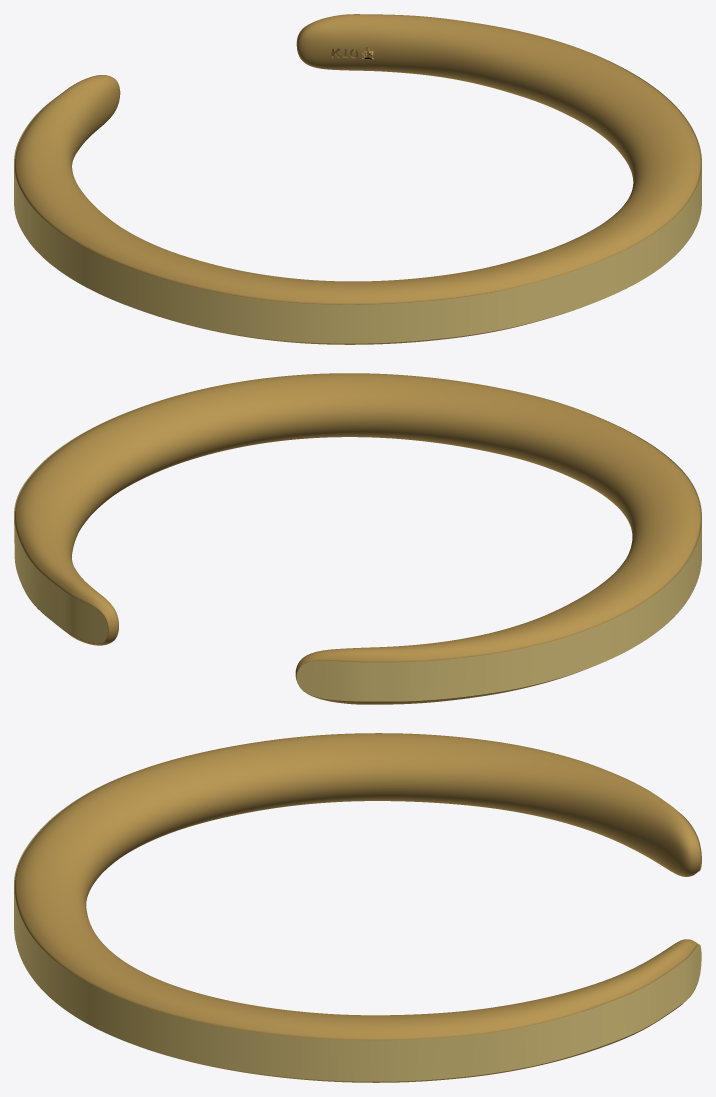
The model's file is ring-gold10.glb.
The picture shows the model from 3 angles, top to bottom: view 1: azimuth 30°, elevation 25°; view 2: azimuth 150°, elevation 25°; view 3: azimuth 270°, elevation 25°; orthographic projection. The views are drawn at different scales.
Visible parts, largest first — view 1: ring-body.004, ring-body.005; view 2: ring-body.004, ring-body.005; view 3: ring-body.004, ring-body.005.
Boxes of the visible parts, x1=… form: ring-body.004: x1=14, y1=14, x2=701, y2=344; ring-body.005: x1=14, y1=25, x2=701, y2=343; ring-body.004: x1=15, y1=373, x2=701, y2=704; ring-body.005: x1=14, y1=412, x2=701, y2=701; ring-body.004: x1=14, y1=733, x2=700, y2=1082; ring-body.005: x1=14, y1=776, x2=701, y2=1081.
Bounding box in the file's own units: 0.5126 × 0.0444 × 0.4867.
Materials: 2 (2 with a texture image).
